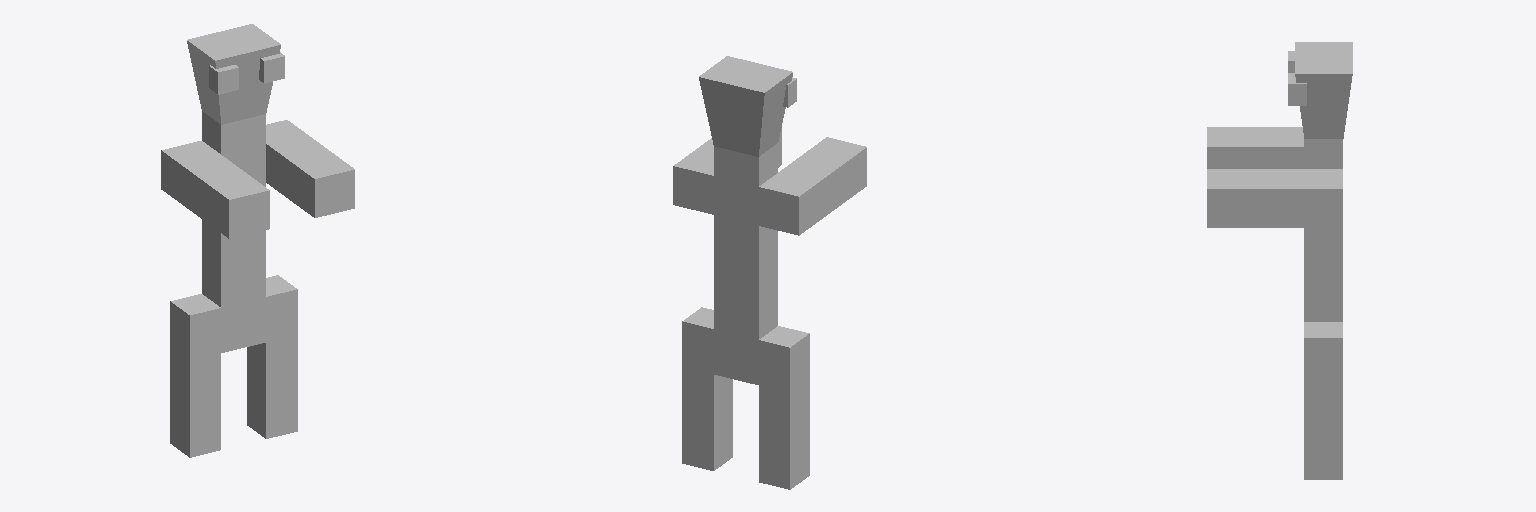
File: machin.obj
3 renders of one model, left to right at view 1: azimuth 30°, elevation 25°; view 2: azimuth 150°, elevation 25°; view 3: azimuth 270°, elevation 25°, orthographic.
Visible parts, largest first — view 1: Cube_Cube.001; view 2: Cube_Cube.001; view 3: Cube_Cube.001.
Part boxes in pixels (left/top/right/bottom): Cube_Cube.001: left=161, top=24, right=354, bottom=457; Cube_Cube.001: left=673, top=56, right=866, bottom=489; Cube_Cube.001: left=1207, top=42, right=1352, bottom=479.
Bounding box in the file's own units: 1 × 3 × 1.